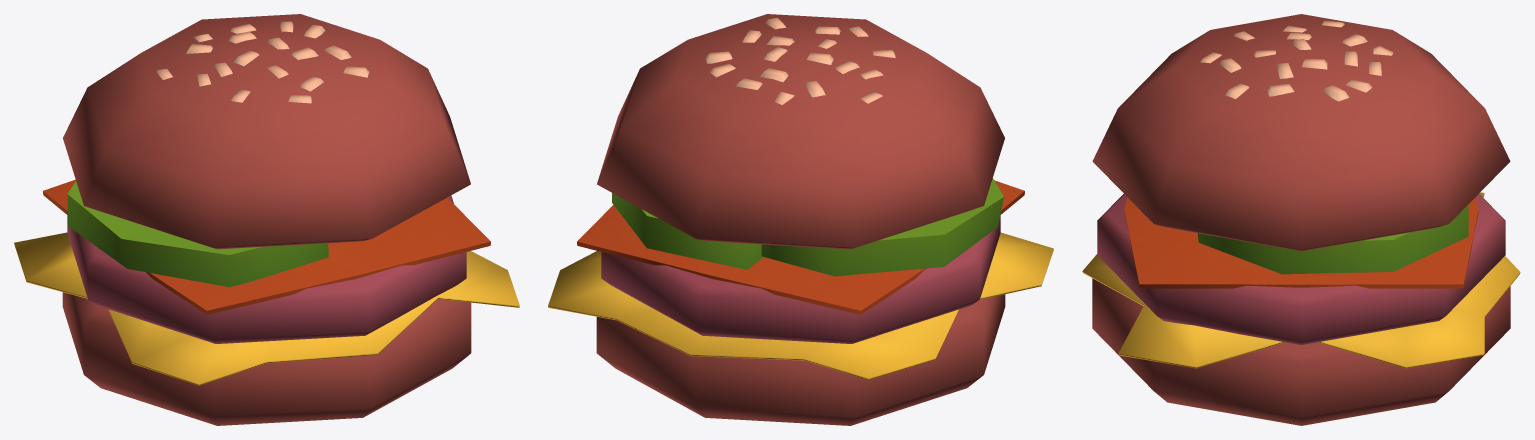
File: HamburguerVar2.fbx
The picture shows the model from 3 angles, left to right: view 1: azimuth 30°, elevation 25°; view 2: azimuth 150°, elevation 25°; view 3: azimuth 270°, elevation 25°; orthographic projection.
Visible parts, largest first — view 1: HamburgerVar2; view 2: HamburgerVar2; view 3: HamburgerVar2.
Part boxes in pixels (x1,y1,x2,y2): HamburgerVar2: (14,14,519,425); HamburgerVar2: (548,14,1053,425); HamburgerVar2: (1082,14,1520,425).
Size of the model in its own units: 0.2343 by 0.2393 by 0.1769.
